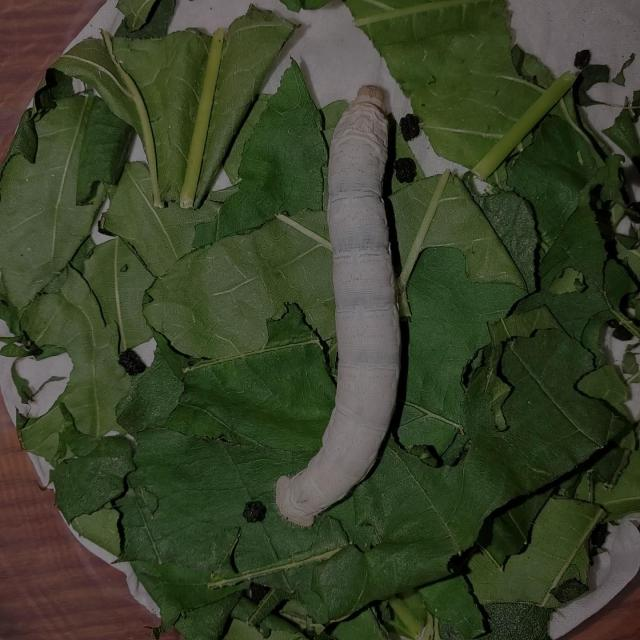Healthy: (269, 78, 425, 530)
